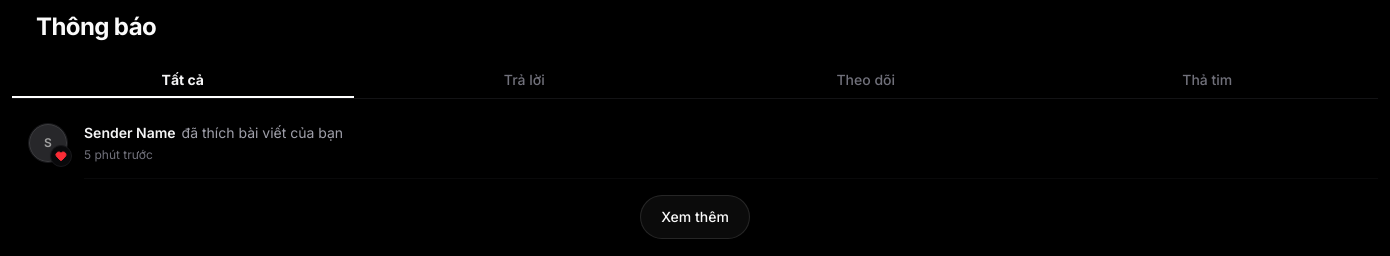
Test: real mode › tabs › load more appends in the active tab only
The image size is (1390, 256).
Click the button "Xem thêm" at (695, 217), box top-left (640, 195), bottom-right (750, 239)
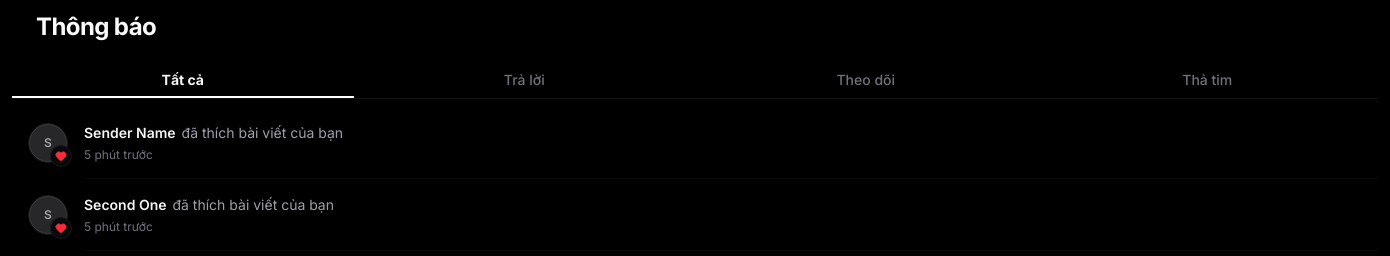
Now the text "Second One" is shown, box top-left (84, 196), bottom-right (166, 213)
Now the button "Xem thêm" is gone
